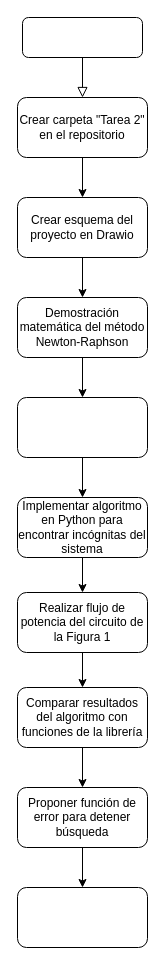
The diagram is 165 pixels wide and 965 high, and some of its shapes have lost their labels. Here are the shapes that lost their labels. From the top down, the box of each, then its label:
(22, 16, 142, 58): Inicio
(16, 396, 148, 458): Crear diagrama de flujo del algoritmo
(16, 886, 148, 948): Fin
